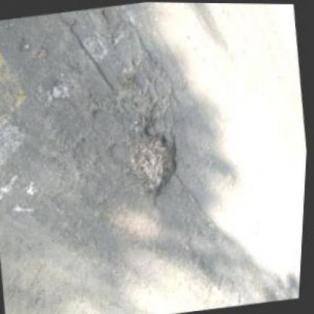Hueco: (124, 127, 188, 206), (114, 70, 160, 133)
